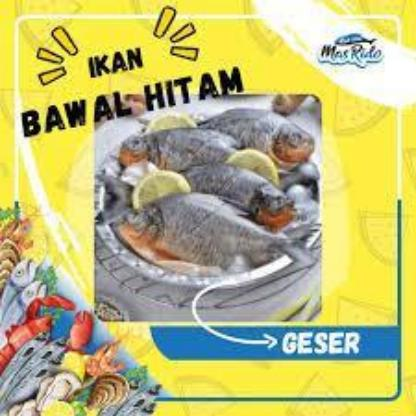ikan-pacu: (124, 186, 316, 274), (187, 162, 299, 226), (206, 104, 314, 168), (118, 126, 237, 176)
